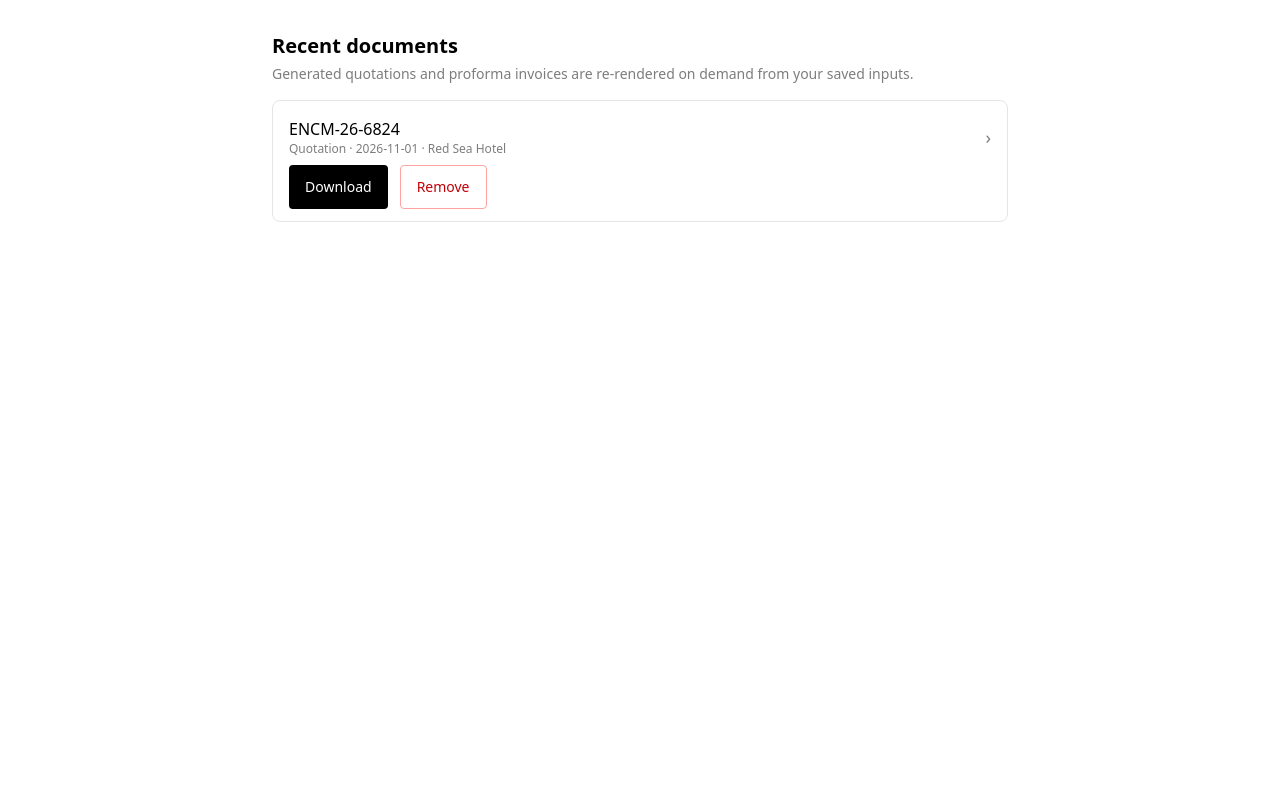
Test: RecentDocuments delete › cancelling the dialog issues no DELETE
Click the button "Remove" at (443, 187), box [400,165,486,209]
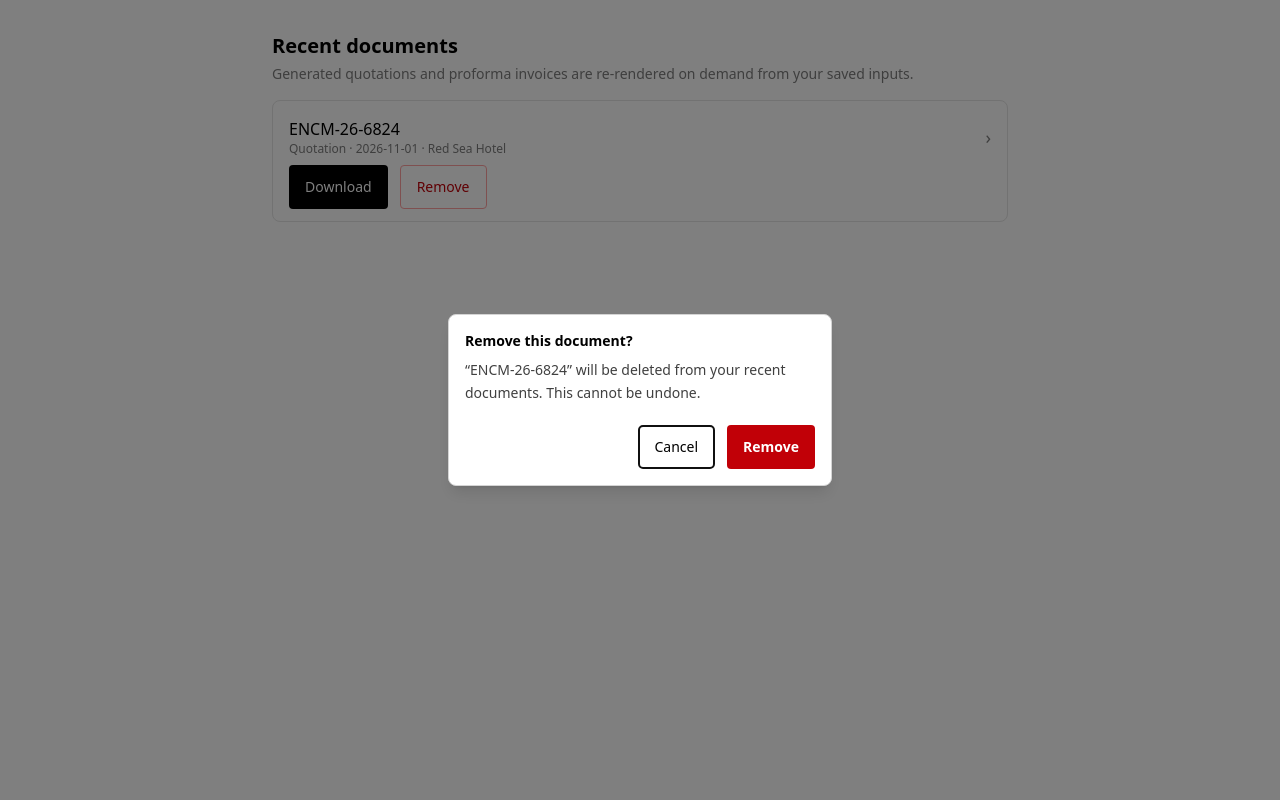
Click the button "Cancel" at (676, 447), box [638,425,715,469]
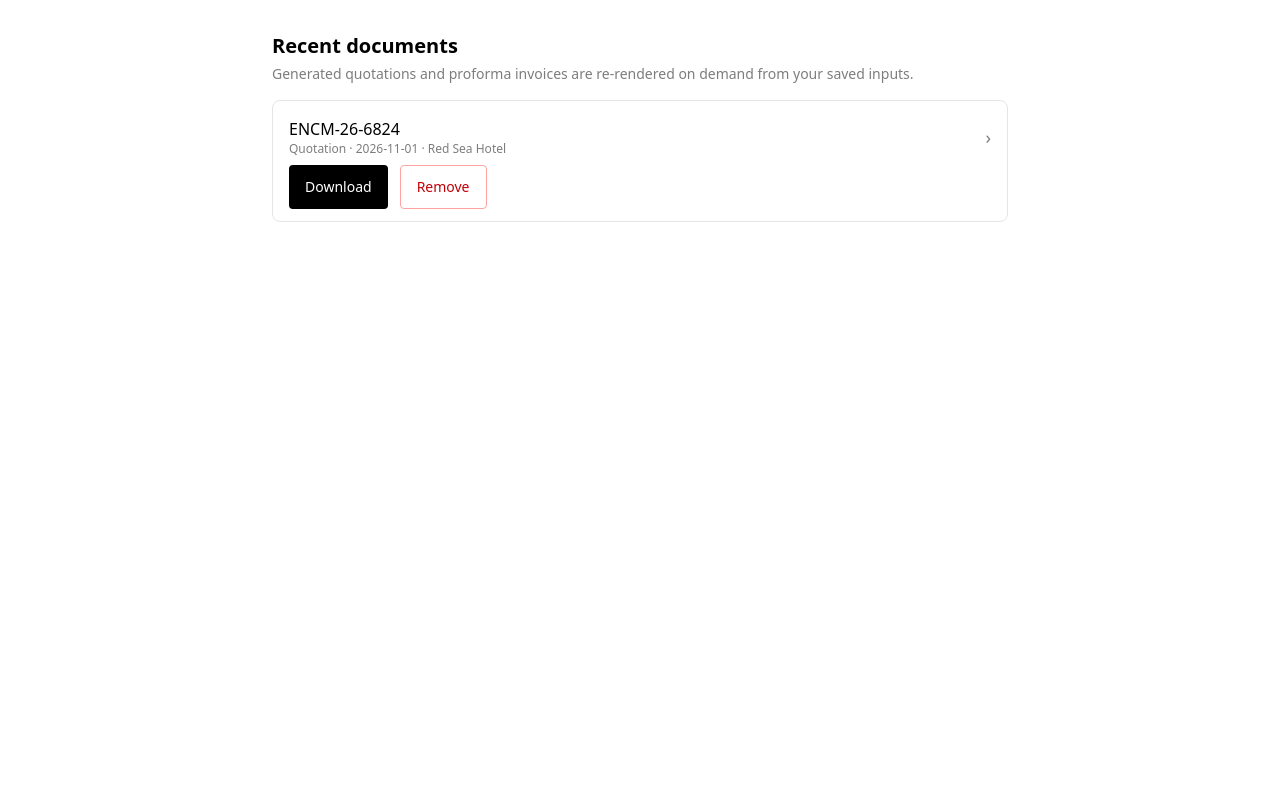
Now the dialog is gone
